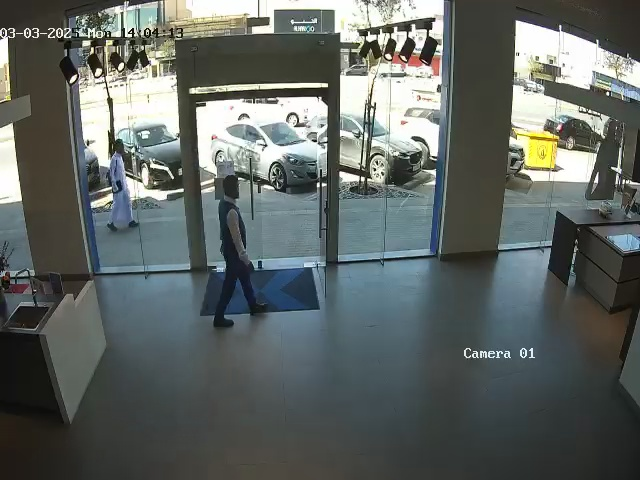employee: (212, 175, 268, 328)
male: (106, 139, 139, 232)
